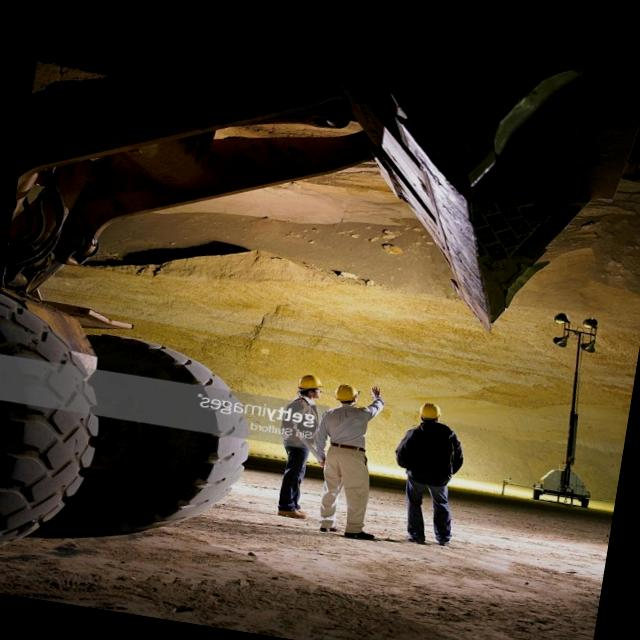helmet: (328, 380, 365, 408), (287, 370, 326, 395), (413, 401, 448, 426)
no-vest: (394, 418, 469, 491), (316, 401, 376, 458), (274, 393, 324, 458)
